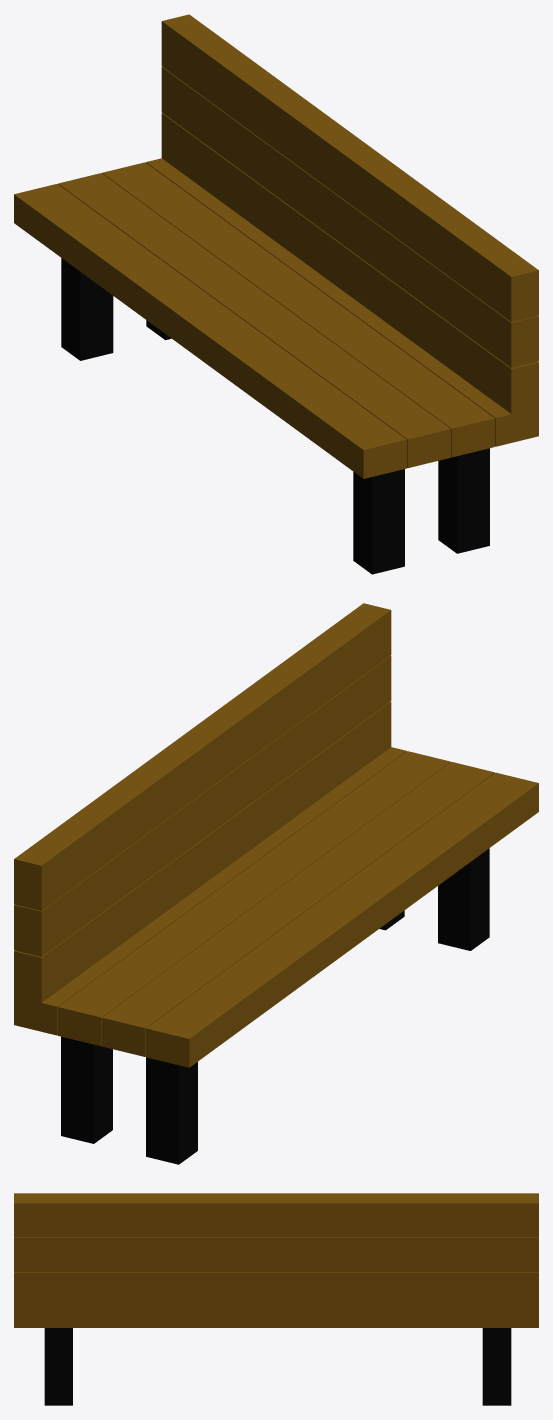
The model's file is outsidechair3.fbx.
The picture shows the model from 3 angles, top to bottom: view 1: azimuth 30°, elevation 25°; view 2: azimuth 150°, elevation 25°; view 3: azimuth 270°, elevation 25°; orthographic projection. The views are drawn at different scales.
Visible parts, largest first — view 1: 평면.008, 평면.007, 평면.010, 평면.009, 평면.006, 평면.004, 평면.005, 큐브.004, 큐브.005, 큐브.007; view 2: 평면.008, 평면.007, 평면.010, 평면.009, 평면.006, 평면.004, 평면.005, 큐브.007, 큐브.006, 큐브.004; view 3: 평면.008, 평면.009, 평면.010, 평면.005, 큐브.006, 큐브.005.
Boxes of the visible parts, x1,y1,x2,y2 form: 평면.008: [161, 14, 538, 322]; 평면.007: [14, 184, 406, 478]; 평면.010: [161, 67, 538, 368]; 평면.009: [161, 113, 538, 413]; 평면.006: [58, 173, 450, 467]; 평면.004: [102, 162, 494, 457]; 평면.005: [146, 158, 538, 446]; 큐브.004: [353, 469, 404, 574]; 큐브.005: [438, 448, 489, 553]; 큐브.007: [61, 258, 113, 360]; 평면.008: [14, 603, 391, 910]; 평면.007: [146, 772, 538, 1067]; 평면.010: [14, 655, 391, 956]; 평면.009: [14, 702, 391, 1002]; 평면.006: [102, 762, 494, 1056]; 평면.004: [58, 751, 450, 1046]; 평면.005: [14, 747, 406, 1035]; 큐브.007: [146, 1057, 197, 1164]; 큐브.006: [61, 1036, 112, 1143]; 큐브.004: [438, 848, 489, 950]; 평면.008: [14, 1193, 538, 1237]; 평면.009: [14, 1272, 538, 1306]; 평면.010: [14, 1237, 538, 1271]; 평면.005: [14, 1306, 538, 1327]; 큐브.006: [482, 1328, 511, 1405]; 큐브.005: [44, 1328, 72, 1405].
Size of the model in its own units: 177 by 273 by 611.
